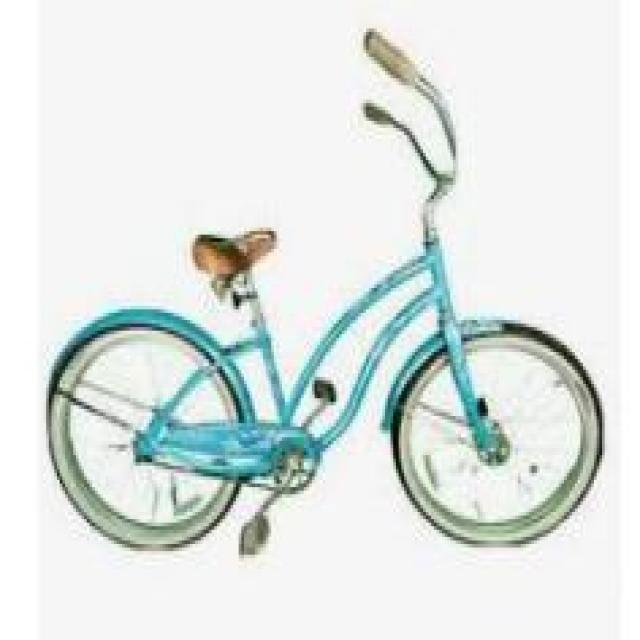bicycle: (17, 16, 630, 599)
